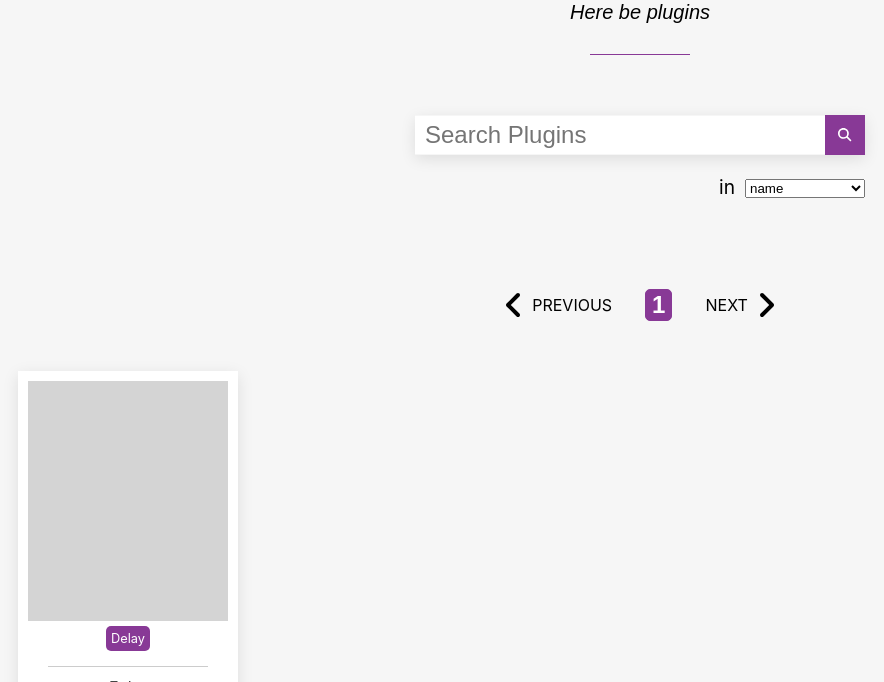
PluginsPage › shows the plugins again once a new search answers
Type "Gx" into the field at (620, 135), box x1=415 y1=116 x2=825 y2=154
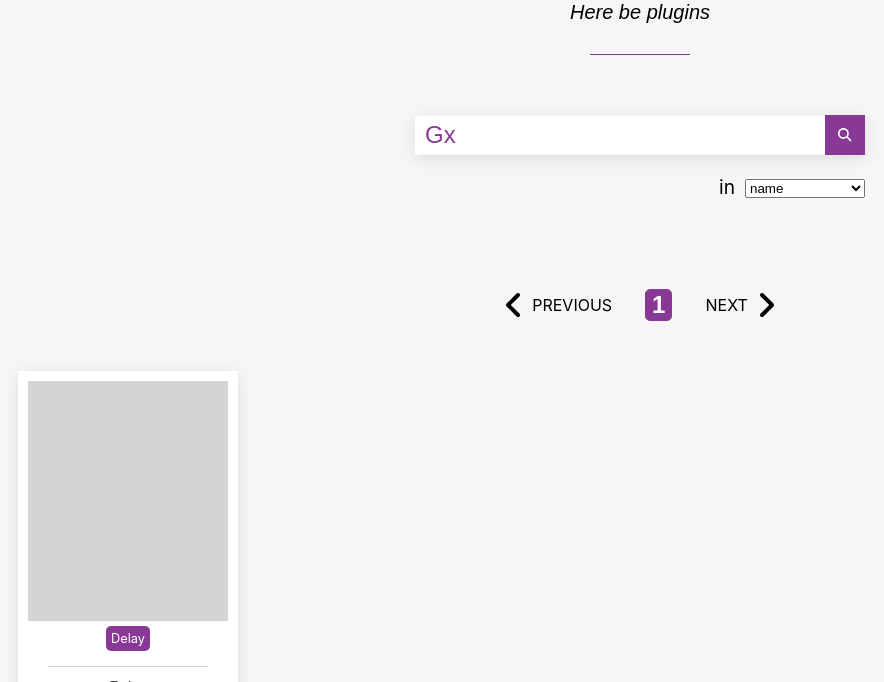
Submit the form, box x1=415 y1=115 x2=865 y2=209
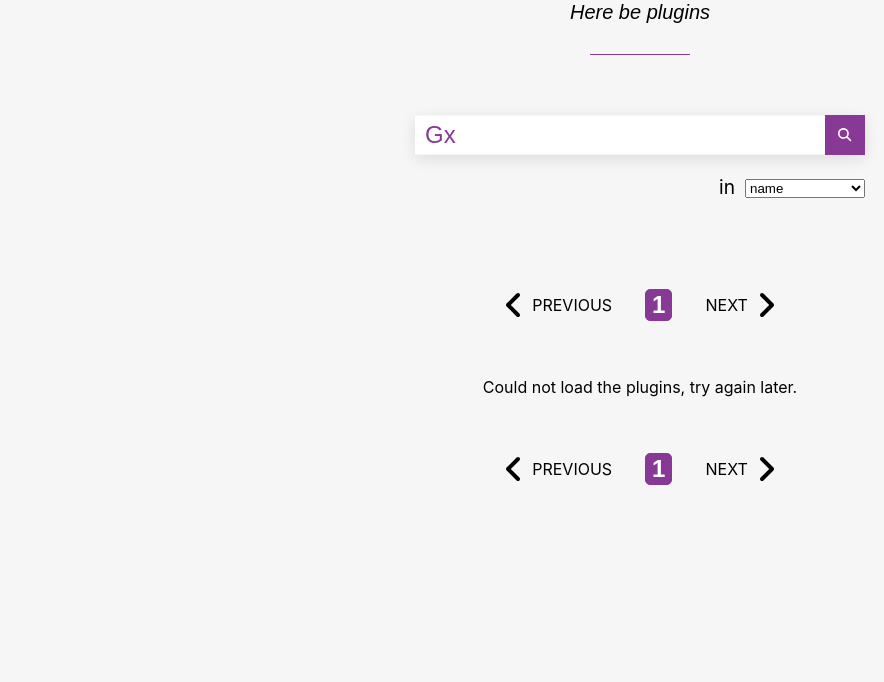
Expected: the message "Could not load the plugins, try again later." is shown, x1=483 y1=377 x2=797 y2=397
Replace the text in the field with "Echo" at (620, 135), box x1=415 y1=116 x2=825 y2=154
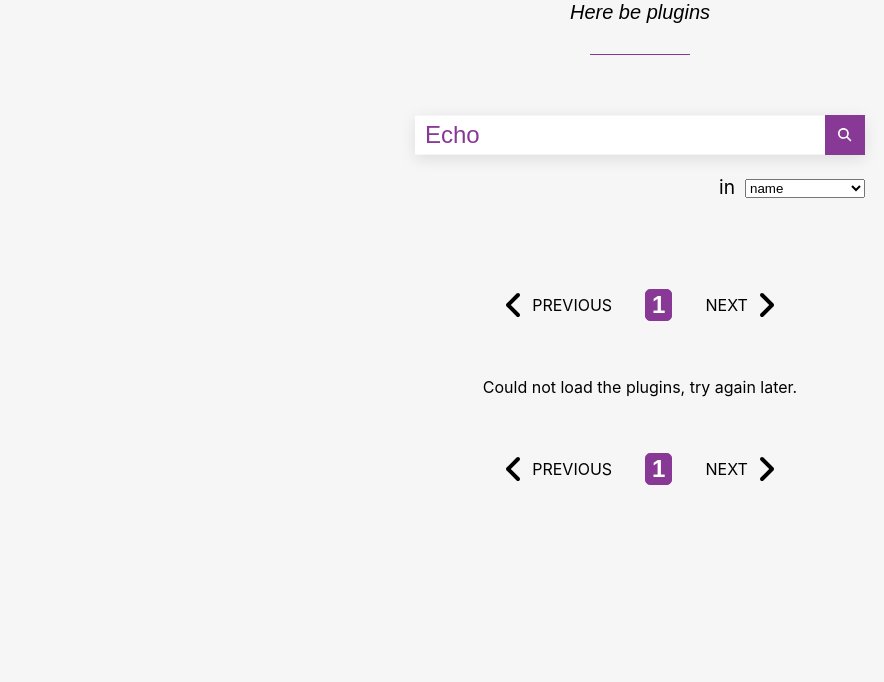
Submit the form, box x1=415 y1=115 x2=865 y2=209
(page scrolled)
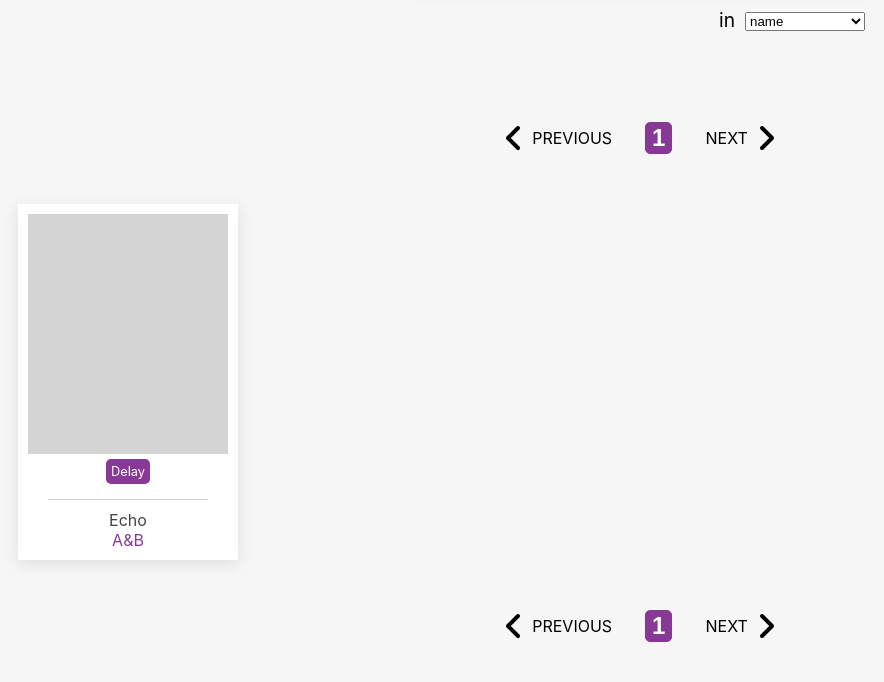
Expected: the link "Echo" is shown, x1=109 y1=510 x2=147 y2=530
Expected: the message "Could not load the plugins, try again later." is gone
